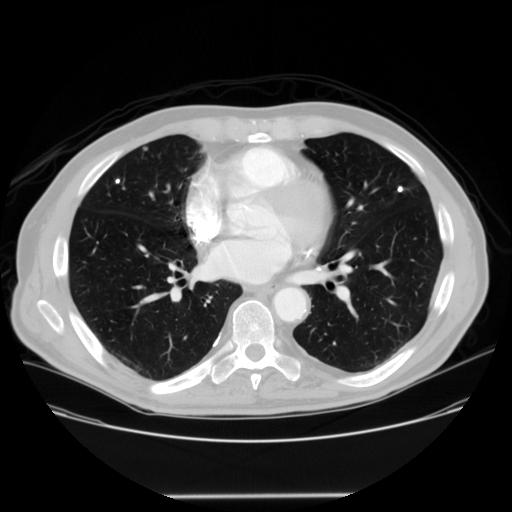nodule: (394, 183, 406, 195)
